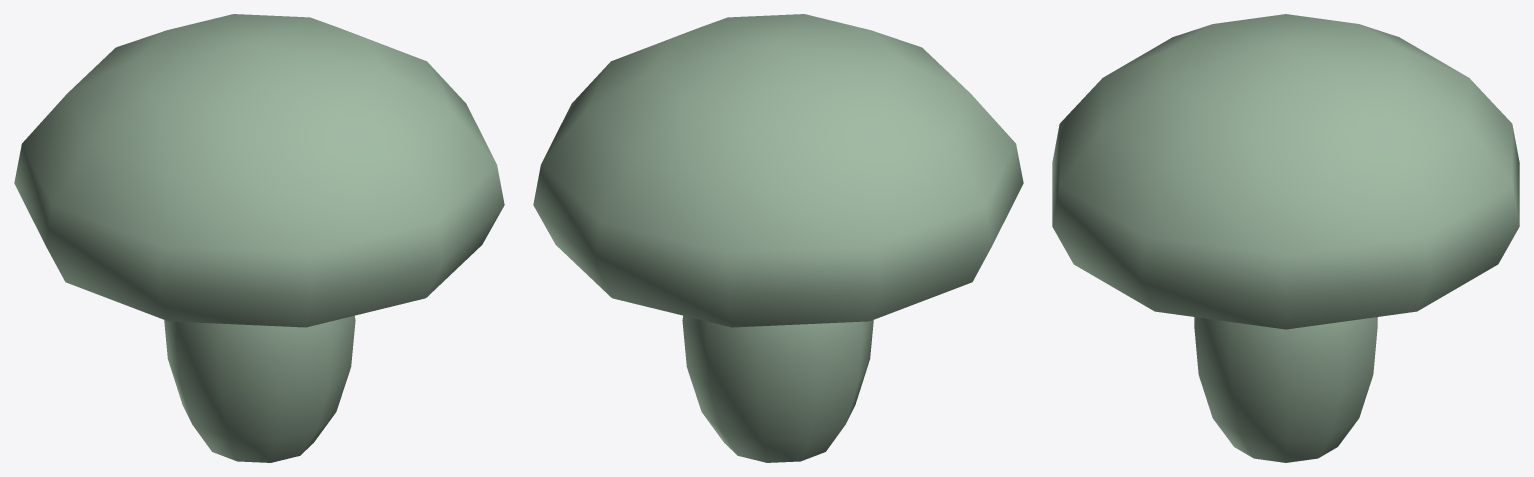
Rendered from mesh_HongoLuminoso.fbx.
The picture shows the model from 3 angles, left to right: view 1: azimuth 30°, elevation 25°; view 2: azimuth 150°, elevation 25°; view 3: azimuth 270°, elevation 25°; orthographic projection.
Parts seen in each view (by area): view 1: mesh_HongoLuminoso; view 2: mesh_HongoLuminoso; view 3: mesh_HongoLuminoso.
Boxes of the visible parts, x1,y1,x2,y2 form: mesh_HongoLuminoso: (14, 14, 504, 462); mesh_HongoLuminoso: (533, 14, 1023, 462); mesh_HongoLuminoso: (1052, 14, 1519, 462).
Bounding box in the file's own units: 128 × 113 × 122.
